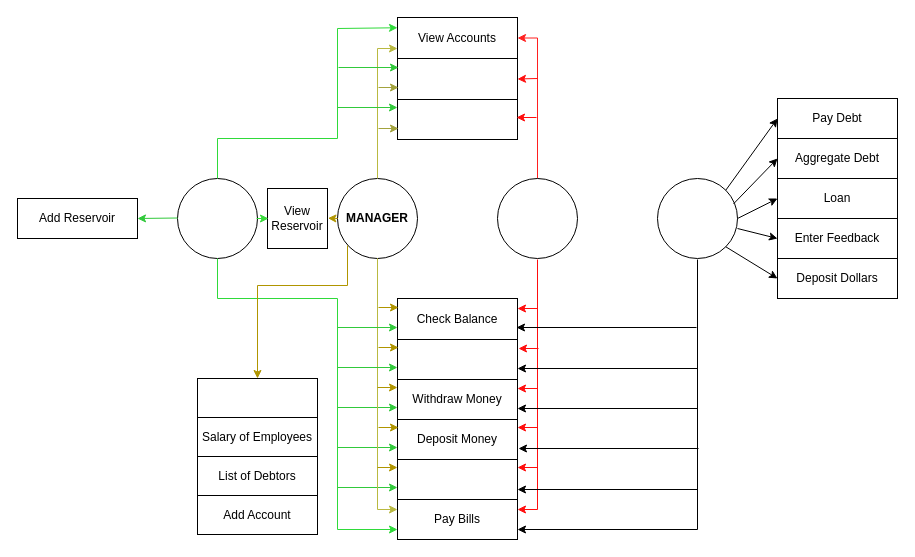
The diagram is 915 pixels wide and 557 high, and some of its shapes have lost their labels. Here are the shapes that lost their labels. From the top down, the box of each, then its label:
(396, 58, 518, 100): View Feedbacks
(396, 98, 518, 140): Delete Account
(176, 178, 258, 258): ADMIN
(496, 178, 578, 258): EMPLOYEE
(656, 178, 738, 258): USER
(396, 338, 518, 380): Money Transfer
(196, 378, 318, 418): Expenditure on Employees
(396, 458, 518, 500): Update Password
